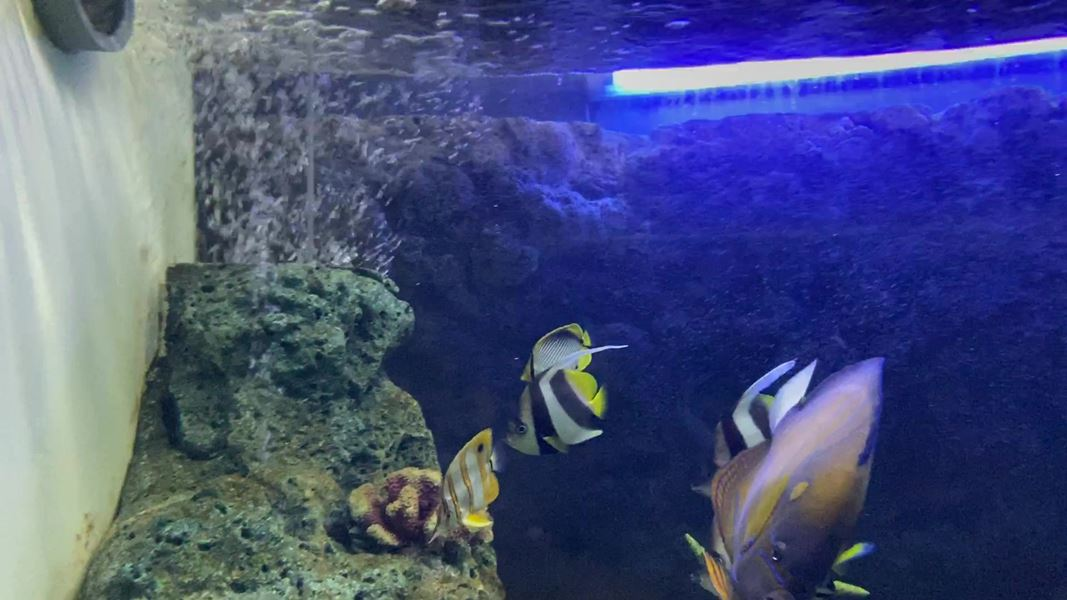Black-backed butterflyfish: (514, 317, 606, 392)
